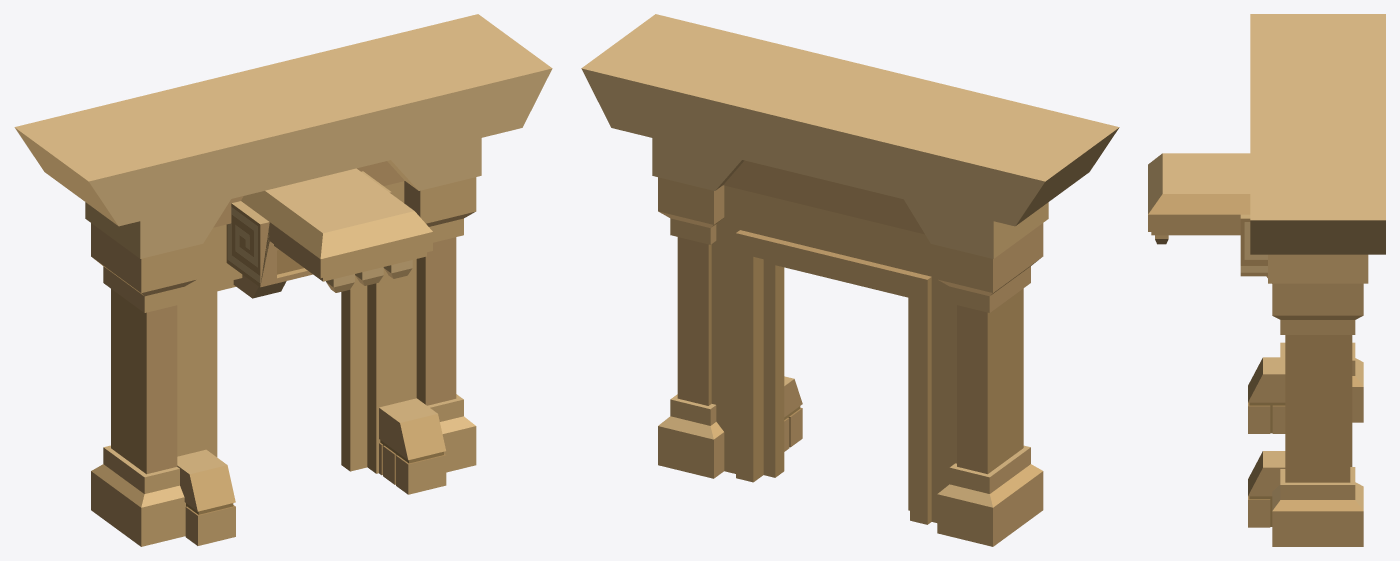
File: ST_Env_Doorway_01.fbx
3 renders of one model, left to right at view 1: azimuth 30°, elevation 25°; view 2: azimuth 150°, elevation 25°; view 3: azimuth 270°, elevation 25°, orthographic. The views are drawn at different scales.
Parts seen in each view (by area): view 1: ST_Env_Doorway_01; view 2: ST_Env_Doorway_01; view 3: ST_Env_Doorway_01.
Part boxes in pixels (<box>): ST_Env_Doorway_01: <box>14,14,552,546</box>; ST_Env_Doorway_01: <box>581,14,1119,546</box>; ST_Env_Doorway_01: <box>1148,14,1385,546</box>.
Size of the model in its own units: 8.31 by 6.67 by 4.05.
